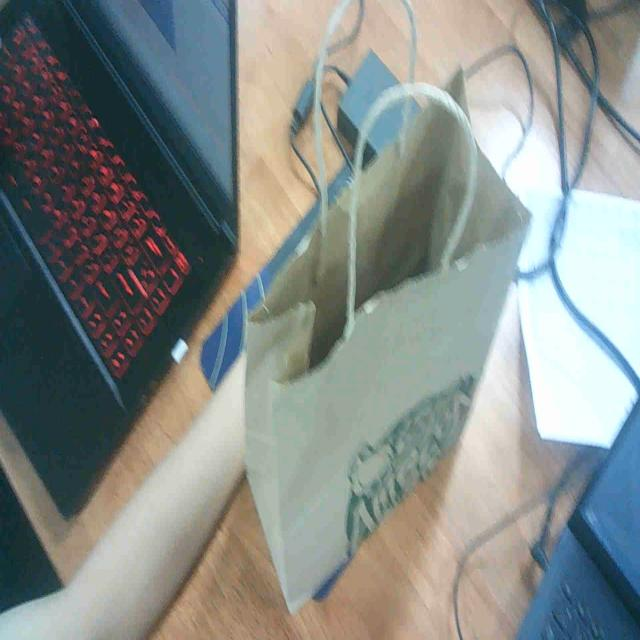bag: (225, 20, 558, 640)
